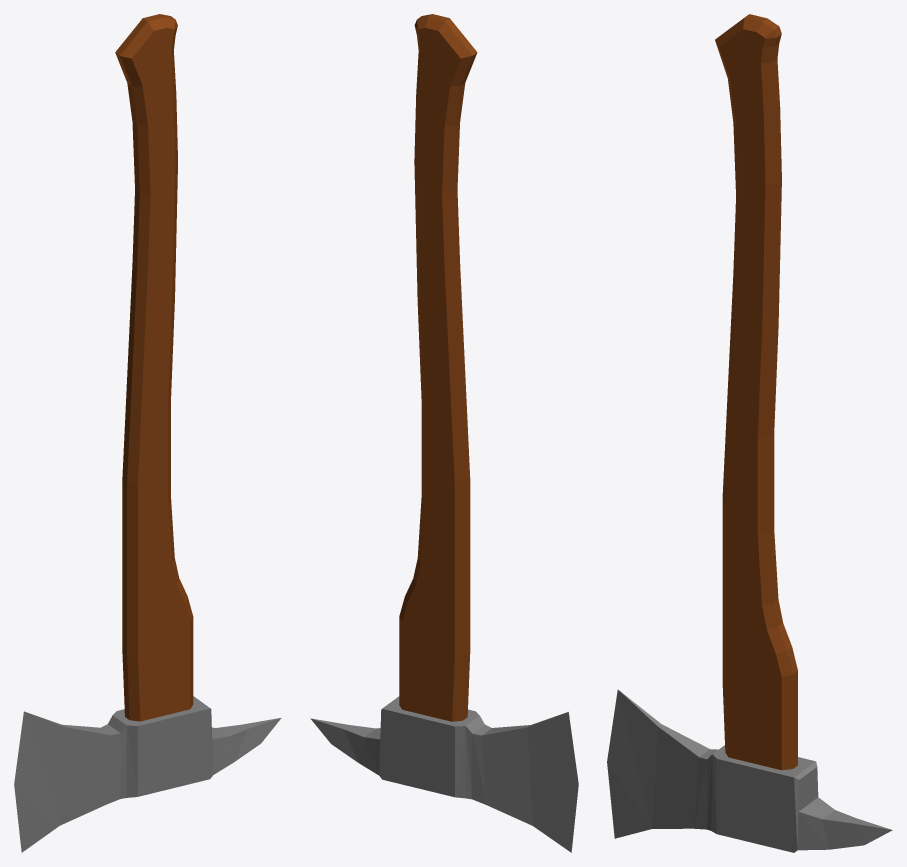
File: Prop_Axe_01.fbx
3 views of the same model, side by side, from view 1: azimuth 30°, elevation 25°; view 2: azimuth 150°, elevation 25°; view 3: azimuth 330°, elevation 25° (orthographic). The views are drawn at different scales.
Parts seen in each view (by area): view 1: Prop_Axe_01; view 2: Prop_Axe_01; view 3: Prop_Axe_01.
Boxes of the visible parts, left/top/right/bottom form: Prop_Axe_01: left=14, top=14, right=281, bottom=852; Prop_Axe_01: left=310, top=14, right=578, bottom=852; Prop_Axe_01: left=607, top=14, right=892, bottom=852.
Bounding box in the file's own units: 339 × 969 × 45.62.
